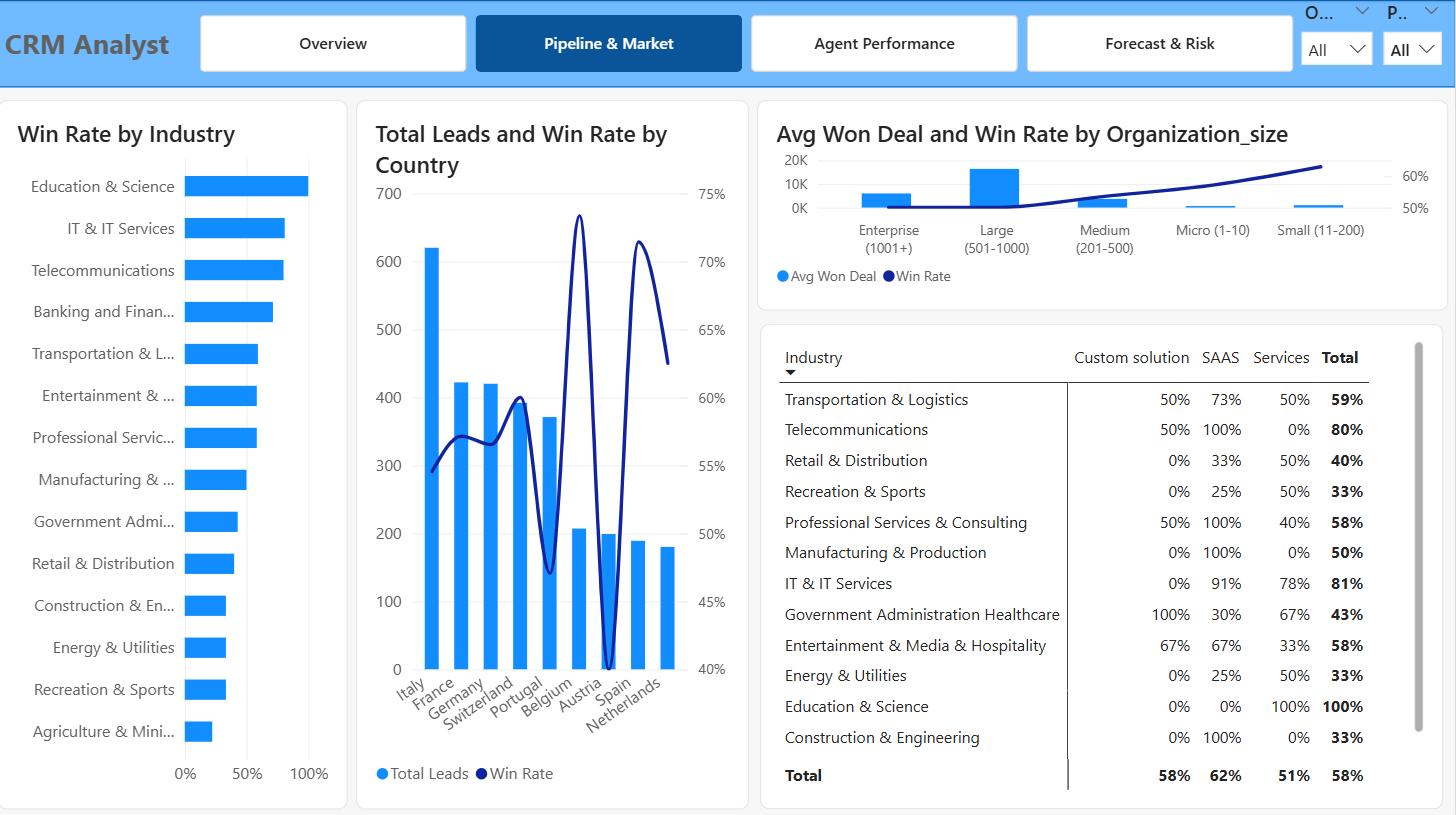

The dashboard page shown, as its layout file describes it:
{"tool":"powerbi","page":{"name":"Pipeline & Market","canvas":[1280,720],"ordinal":1},"visuals":[{"type":"shape","box":[0,0,1280,76.7],"z":0},{"type":"textbox","box":[0,21.2,156.2,55.4],"z":1000},{"type":"pageNavigator","box":[177.4,13.1,962.5,50.4],"z":2000},{"type":"clusteredBarChart","fields":{"Category":["crm_data.Industry"],"Y":["crm_data.Win Rate"]},"box":[0,87.7,307.4,622.9],"z":3000},{"type":"lineClusteredColumnComboChart","fields":{"Category":["crm_data.Country"],"Y":["crm_data.Total Leads"],"Y2":["crm_data.Win Rate"]},"box":[314.5,87.7,344.7,622.9],"z":4000},{"type":"pivotTable","fields":{"Columns":["crm_data.Product"],"Rows":["crm_data.Industry"],"Values":["crm_data.Win Rate"]},"box":[669.2,284.2,599.7,426.3],"z":5000},{"type":"lineClusteredColumnComboChart","fields":{"Category":["crm_data.Organization_size"],"Y":["crm_data.Avg Won Deal"],"Y2":["crm_data.Win Rate"]},"box":[666.2,87.7,606.7,185.4],"z":6000},{"type":"slicer","fields":{"Values":["crm_data.Organization_size"]},"box":[1139.8,0,72.1,57.7],"z":7000},{"type":"slicer","fields":{"Values":["crm_data.Product"]},"box":[1212,0,60.8,64.9],"z":8000}]}

Visuals, with their boxes in screenshot pixels (x1, y1, x2, y2), scaled from the page's 1280x720 canvas onto the 1456x815 screenshot:
shape: <box>0,0,1455,87</box>
textbox: <box>0,24,178,87</box>
pageNavigator: <box>202,15,1297,72</box>
clusteredBarChart - crm_data.Industry x crm_data.Win Rate: <box>0,99,350,804</box>
lineClusteredColumnComboChart - crm_data.Country x crm_data.Total Leads: <box>358,99,750,804</box>
pivotTable - crm_data.Product x crm_data.Industry: <box>761,322,1443,804</box>
lineClusteredColumnComboChart - crm_data.Organization_size x crm_data.Avg Won Deal: <box>758,99,1448,309</box>
slicer - crm_data.Organization_size: <box>1297,0,1379,65</box>
slicer - crm_data.Product: <box>1379,0,1448,73</box>
